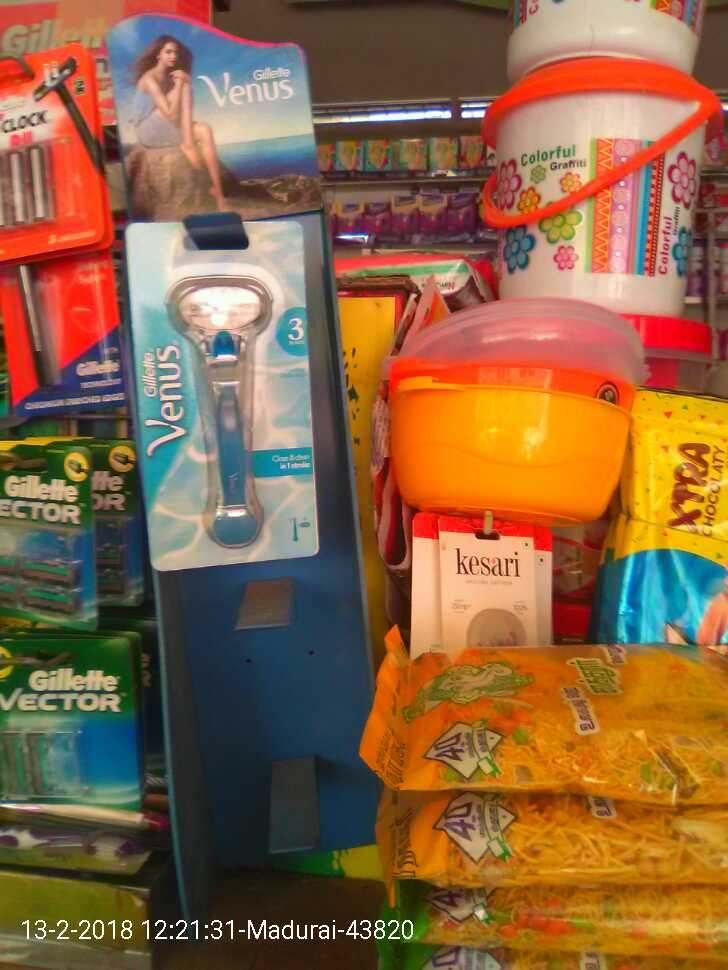beauty: (122, 212, 332, 579), (1, 635, 154, 817), (1, 429, 113, 637)
